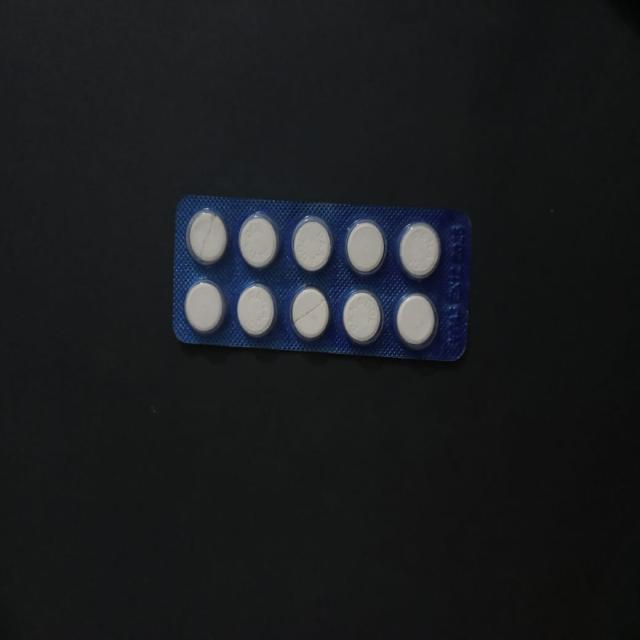defect: (184, 208, 230, 266), (290, 286, 331, 343)
